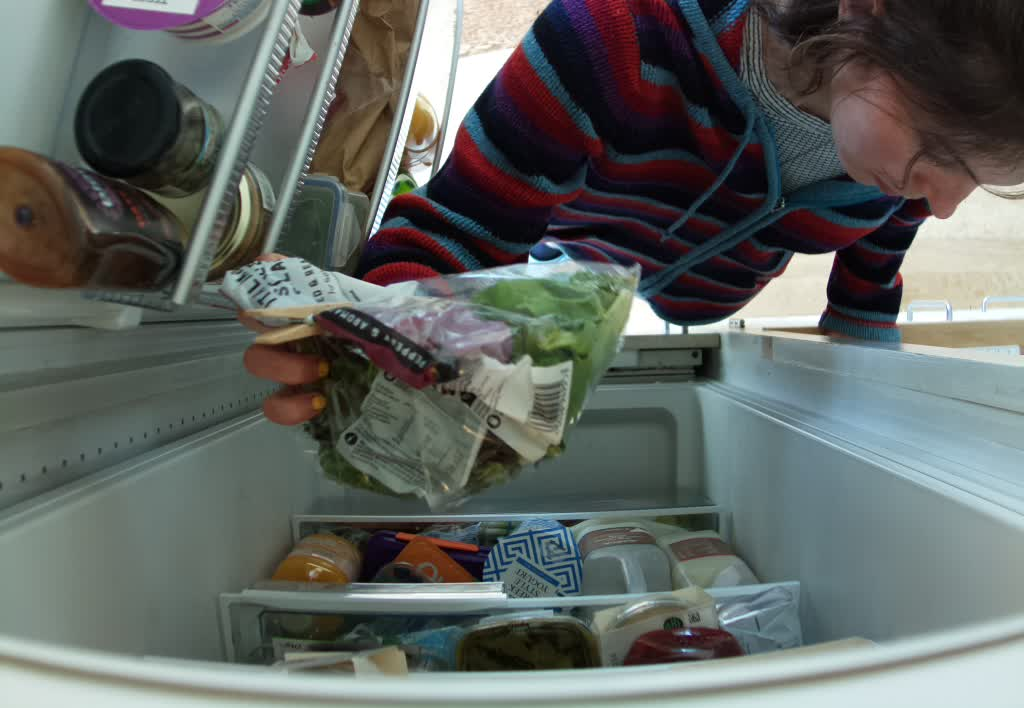salad: (233, 243, 636, 510)
